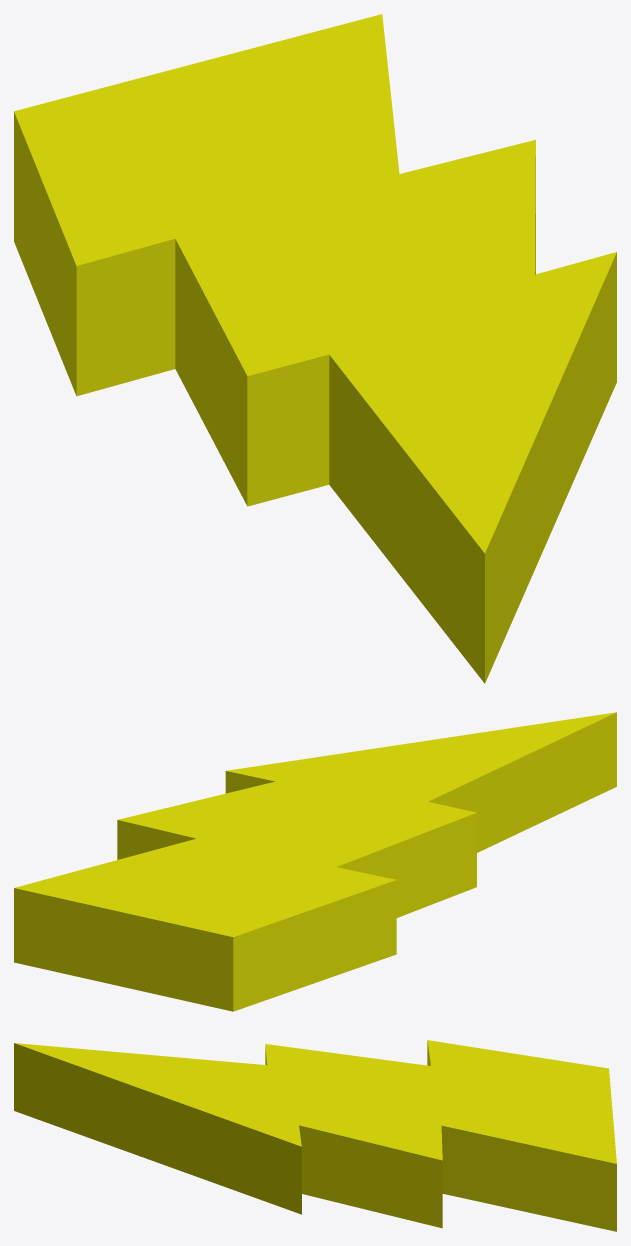
File: Lighting.fbx
The picture shows the model from 3 angles, top to bottom: view 1: azimuth 30°, elevation 25°; view 2: azimuth 150°, elevation 25°; view 3: azimuth 270°, elevation 25°; orthographic projection. The views are drawn at different scales.
Parts seen in each view (by area): view 1: pCube1; view 2: pCube1; view 3: pCube1.
Part boxes in pixels (x1=…): pCube1: x1=14, y1=14, x2=616, y2=683; pCube1: x1=14, y1=712, x2=616, y2=1011; pCube1: x1=14, y1=1040, x2=616, y2=1231.
Bounding box in the file's own units: 2.73 × 0.6958 × 5.6.
